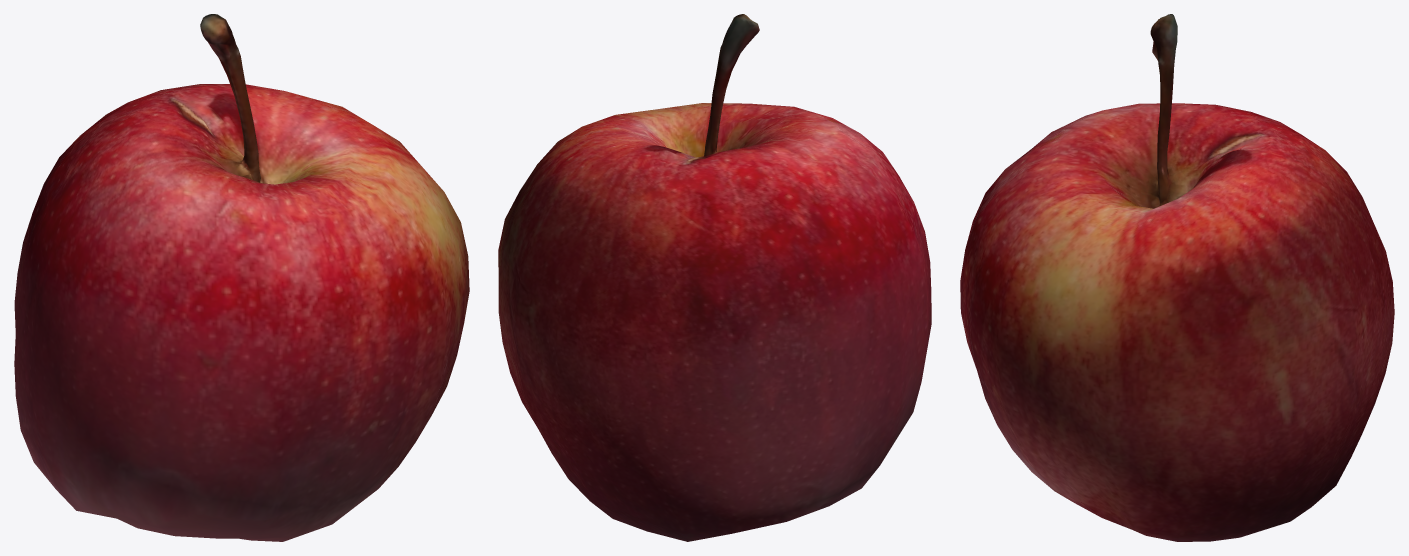
File: apple.glb
3 renders of one model, left to right at view 1: azimuth 30°, elevation 25°; view 2: azimuth 150°, elevation 25°; view 3: azimuth 270°, elevation 25°, orthographic. The views are drawn at different scales.
Parts seen in each view (by area): view 1: apple_low; view 2: apple_low; view 3: apple_low.
Part boxes in pixels (x1=…): apple_low: x1=14, y1=14, x2=469, y2=541; apple_low: x1=498, y1=14, x2=931, y2=541; apple_low: x1=960, y1=14, x2=1394, y2=541.
Bounding box in the file's own units: 2.59 × 3.14 × 2.59.
Materials: 1 (1 with a texture image).
